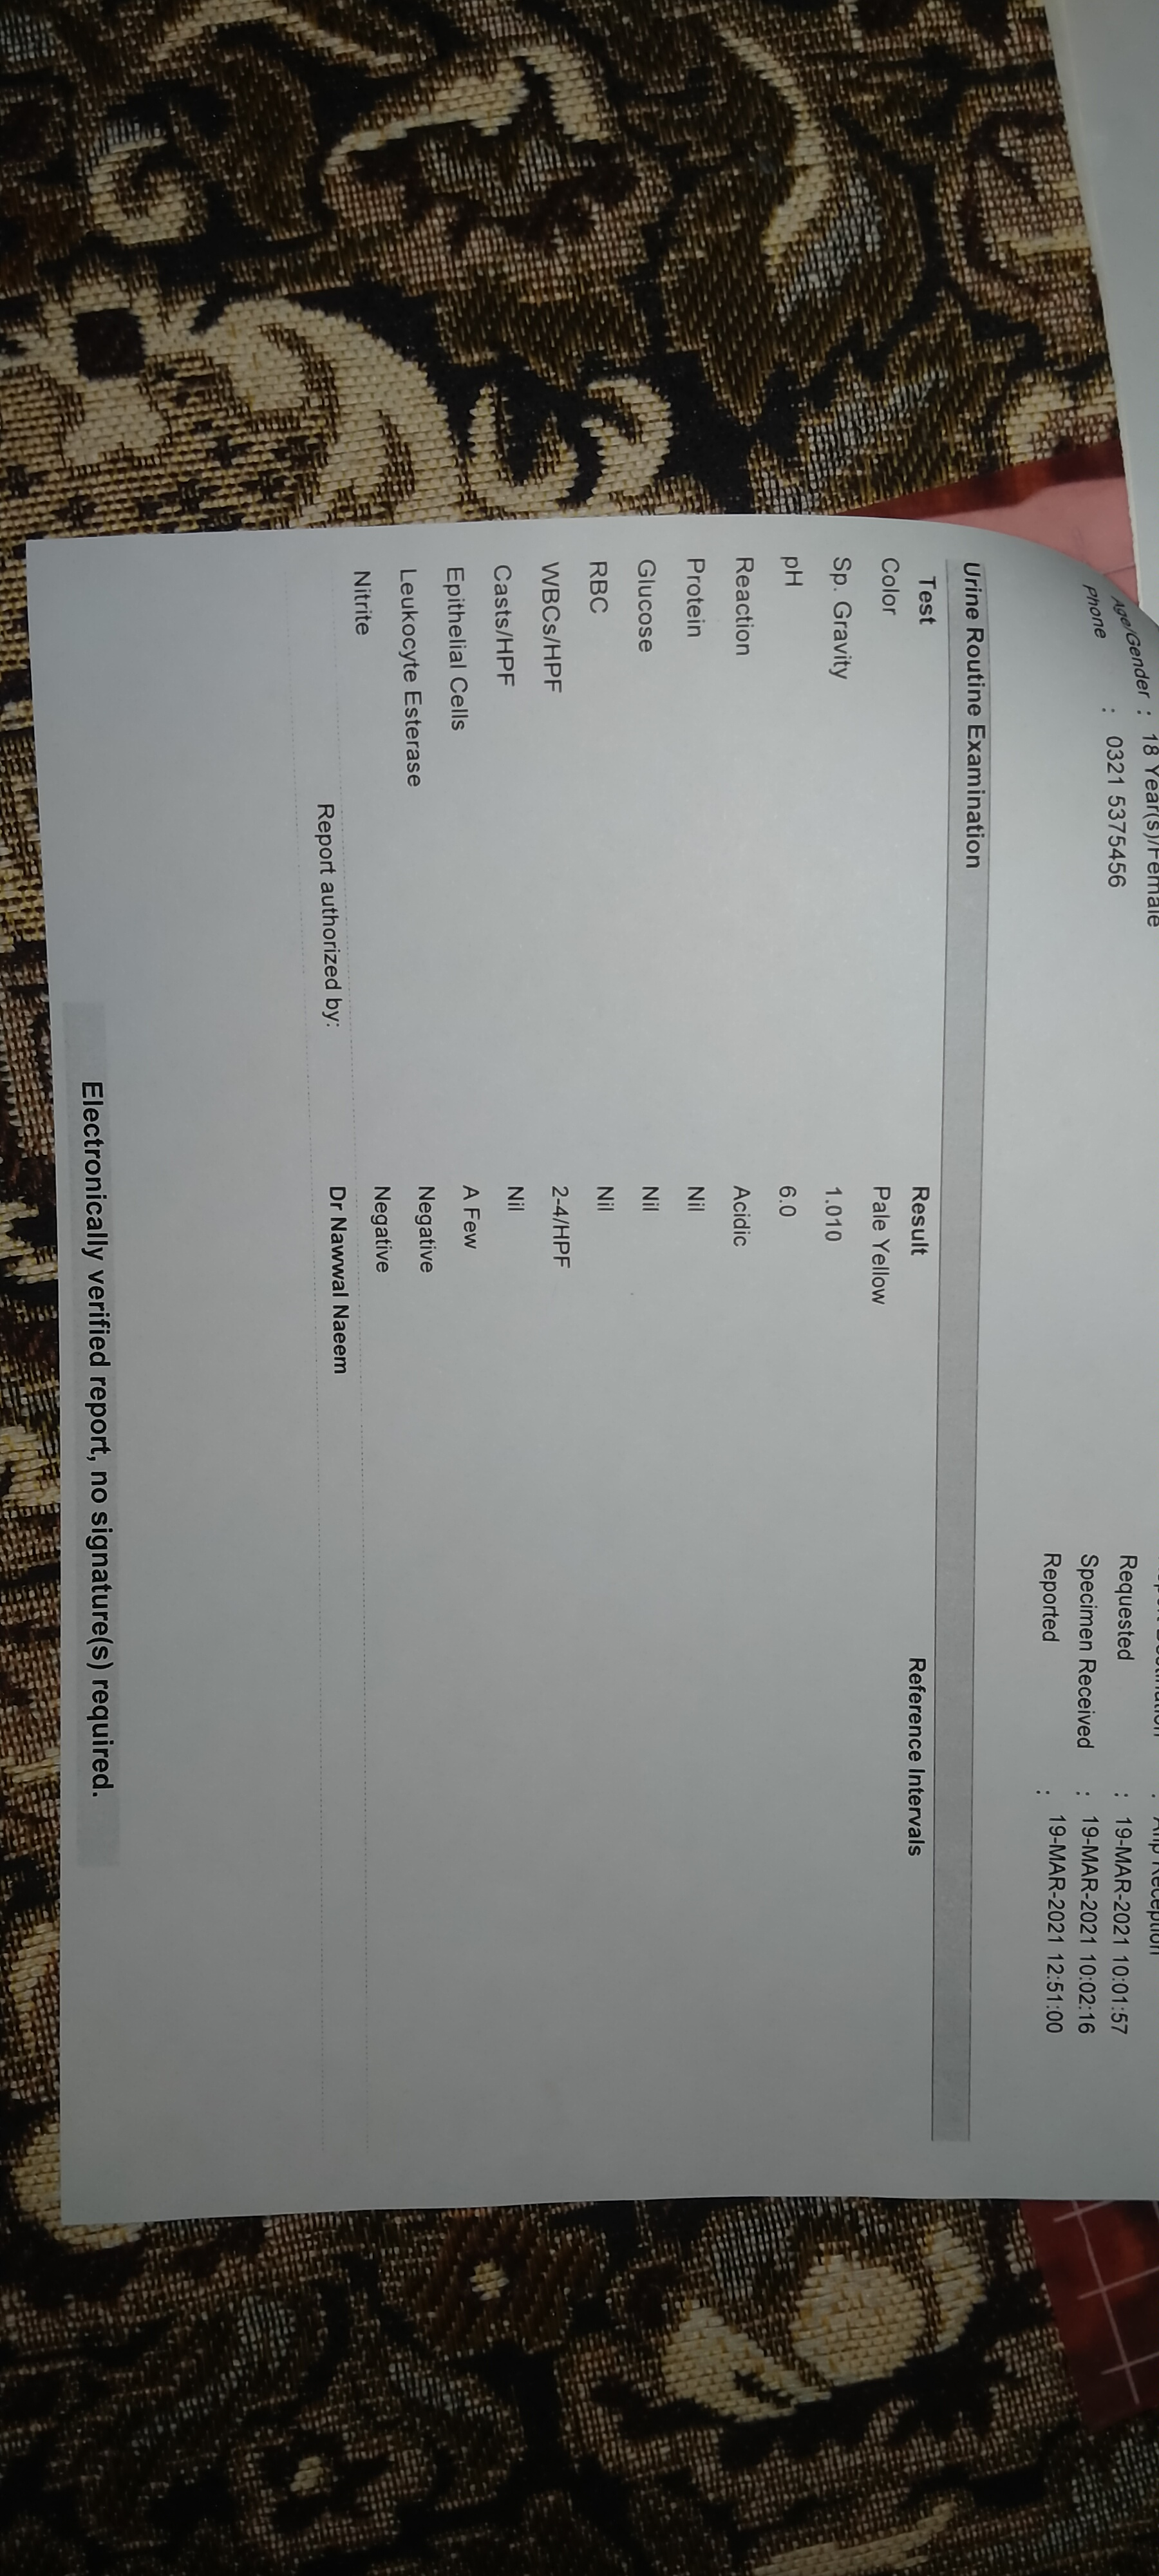report: (286, 521, 975, 2142)
